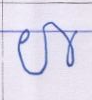i_matra: (46, 21, 77, 67)
